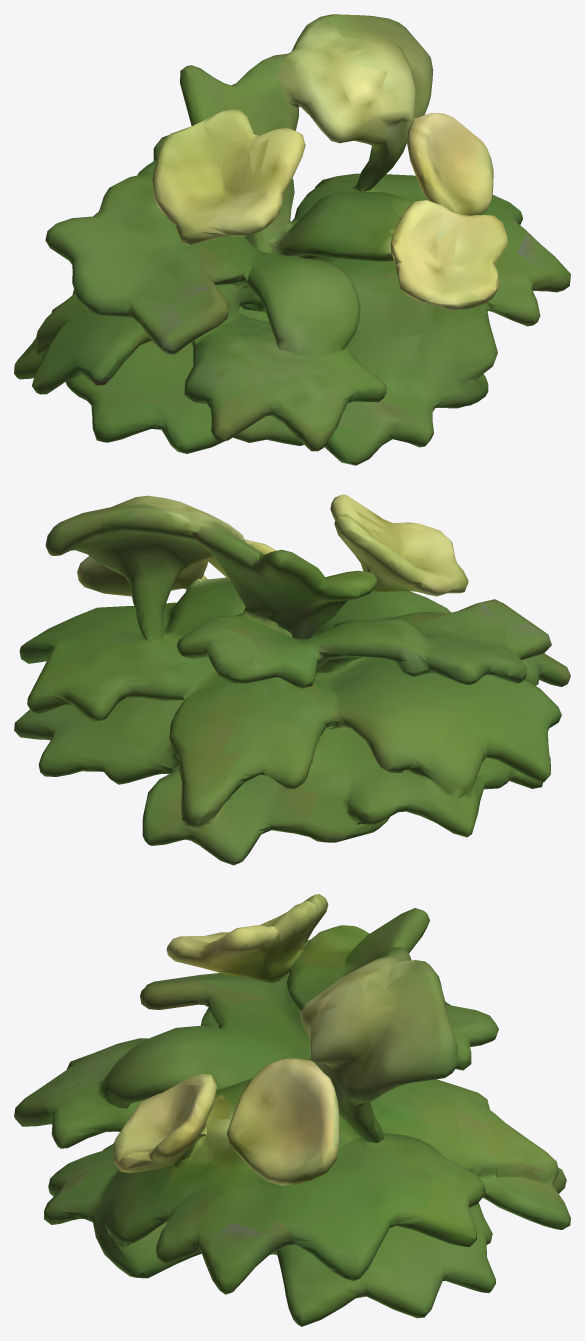
Rendered from setas_amarillas.glb.
3 views of the same model, one above another, from view 1: azimuth 30°, elevation 25°; view 2: azimuth 150°, elevation 25°; view 3: azimuth 270°, elevation 25° (orthographic). The views are drawn at different scales.
Visible parts, largest first — view 1: setas_amarillas_malla; view 2: setas_amarillas_malla; view 3: setas_amarillas_malla.
Part boxes in pixels (bbox=[...]): setas_amarillas_malla: bbox=[14, 14, 570, 465]; setas_amarillas_malla: bbox=[14, 494, 570, 865]; setas_amarillas_malla: bbox=[14, 894, 570, 1326].
Bounding box in the file's own units: 0.1104 × 0.0581 × 0.0974.
1 material, 1 textured.
